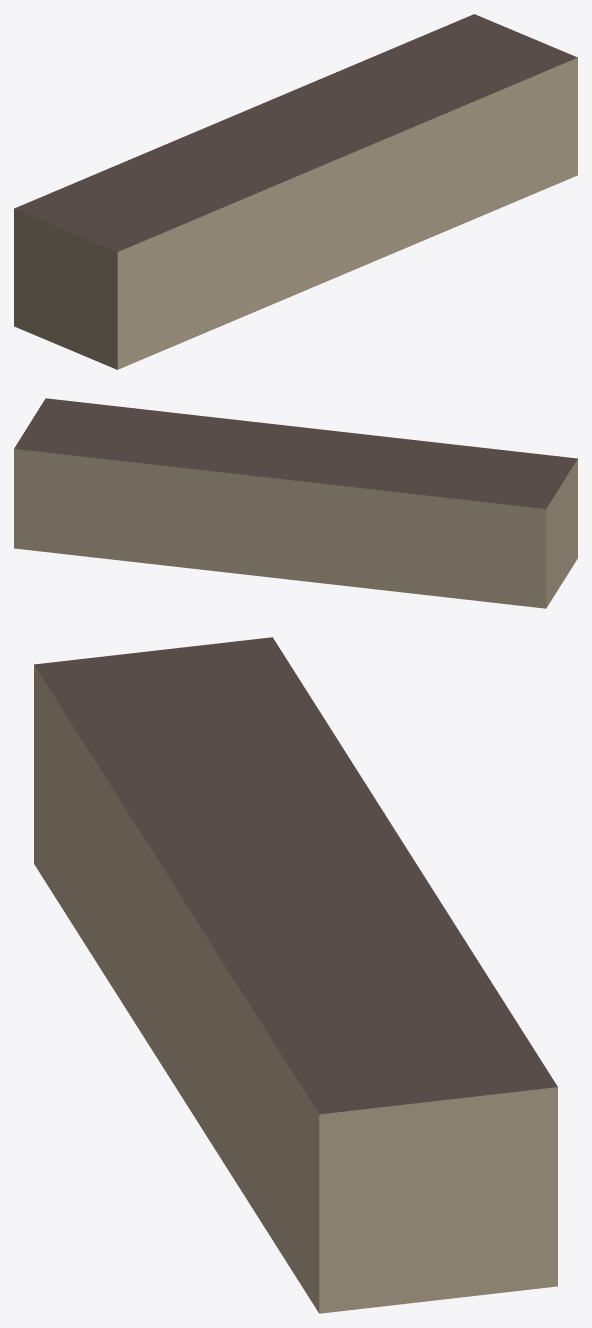
3 views of the same model, one above another, from view 1: azimuth 30°, elevation 25°; view 2: azimuth 150°, elevation 25°; view 3: azimuth 270°, elevation 25° (orthographic). The views are drawn at different scales.
Visible parts, largest first — view 1: HP-w1323529652; view 2: HP-w1323529652; view 3: HP-w1323529652.
Boxes of the visible parts, left/top/right/bottom form: HP-w1323529652: left=14, top=14, right=577, bottom=369; HP-w1323529652: left=14, top=398, right=577, bottom=608; HP-w1323529652: left=34, top=637, right=557, bottom=1313.
Bounding box in the file's own units: 46.2 × 9 × 21.44.
